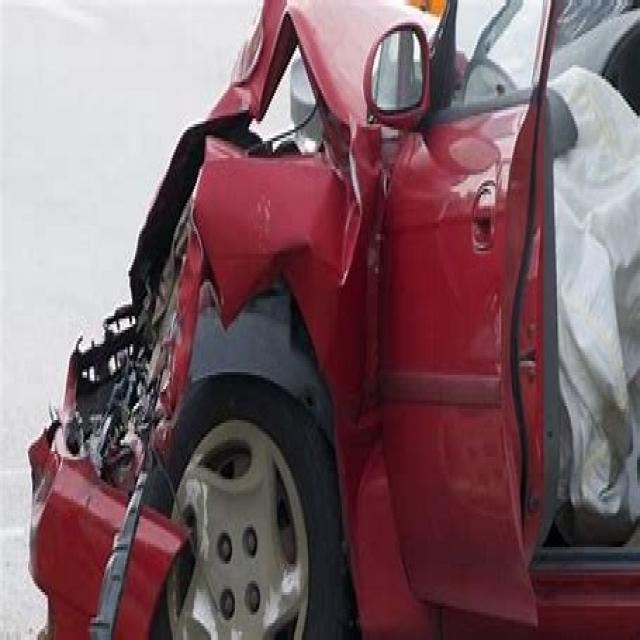Accident: (49, 74, 628, 598)
